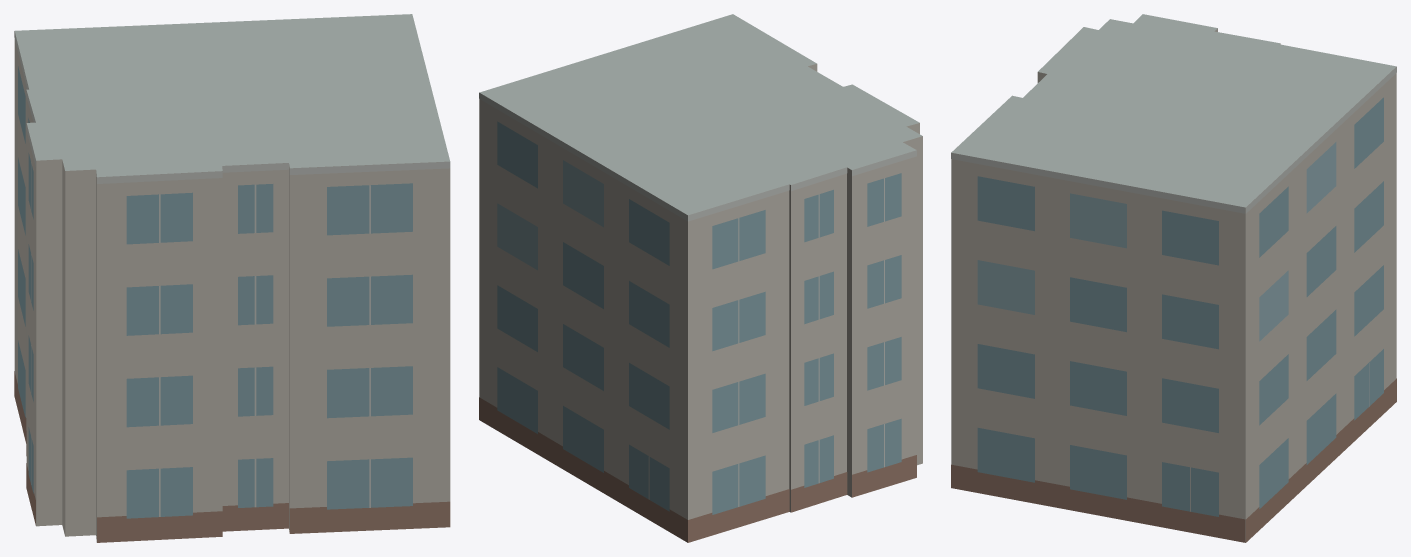
Rendered from survey-upis-32669516.glb.
The picture shows the model from 3 angles, left to right: view 1: azimuth 30°, elevation 25°; view 2: azimuth 150°, elevation 25°; view 3: azimuth 270°, elevation 25°; orthographic projection. The views are drawn at different scales.
Visible parts, largest first — view 1: survey-upis-32669516.tmp; view 2: survey-upis-32669516.tmp; view 3: survey-upis-32669516.tmp.
Part boxes in pixels (<box>): survey-upis-32669516.tmp: <box>14,14,450,542</box>; survey-upis-32669516.tmp: <box>479,14,922,542</box>; survey-upis-32669516.tmp: <box>951,14,1396,542</box>.
Bounding box in the file's own units: 16.02 × 12.94 × 15.59.
